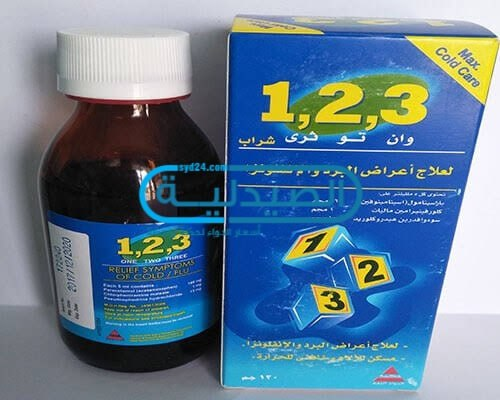Medicine: (217, 9, 499, 400), (32, 16, 219, 378)
